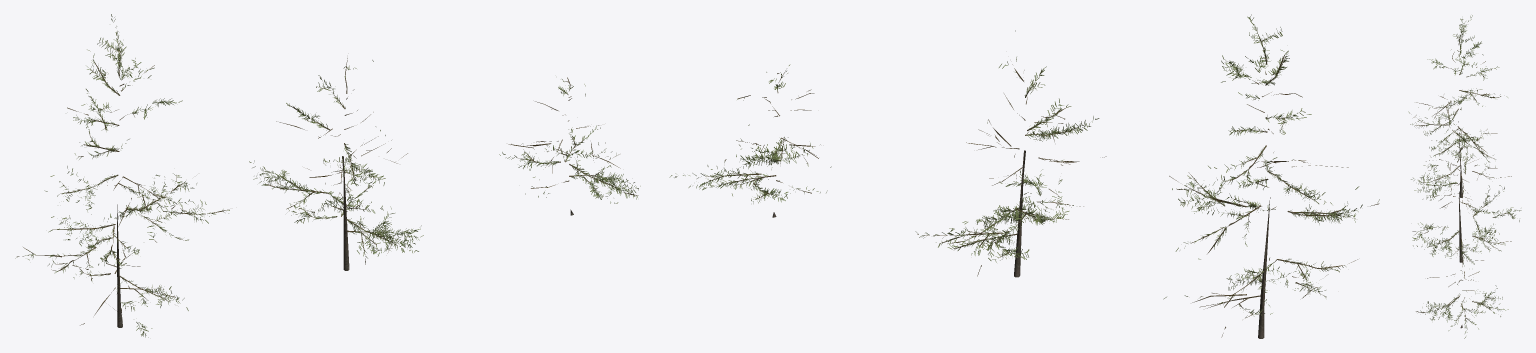
File: sapling_conifer.glb
The picture shows the model from 3 angles, left to right: view 1: azimuth 30°, elevation 25°; view 2: azimuth 150°, elevation 25°; view 3: azimuth 270°, elevation 25°; orthographic projection. The views are drawn at different scales.
Parts seen in each view (by area): view 1: fir_sapling_a; view 2: fir_sapling_a; view 3: fir_sapling_a.
Boxes of the visible parts, box(x1,y1,x2,y2) form: fir_sapling_a: box(15, 14, 640, 337); fir_sapling_a: box(669, 14, 1379, 338); fir_sapling_a: box(1408, 15, 1521, 338).
Bounding box in the file's own units: 2.67 × 1.3 × 0.7306.
2 materials, 2 textured.
